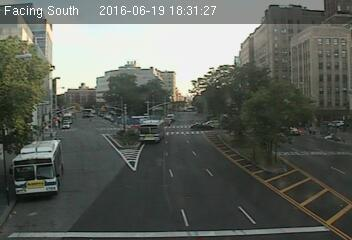neg: (36, 155, 60, 187), (103, 136, 127, 167), (287, 77, 310, 108), (42, 108, 62, 135), (180, 164, 200, 190), (244, 100, 263, 125), (240, 43, 259, 68), (197, 115, 215, 139), (209, 44, 227, 68), (63, 73, 81, 97), (291, 179, 309, 203), (144, 62, 162, 85), (259, 132, 275, 154), (134, 190, 149, 210), (85, 45, 100, 64), (235, 181, 249, 200), (319, 59, 333, 77), (157, 95, 170, 112), (322, 139, 333, 154)
